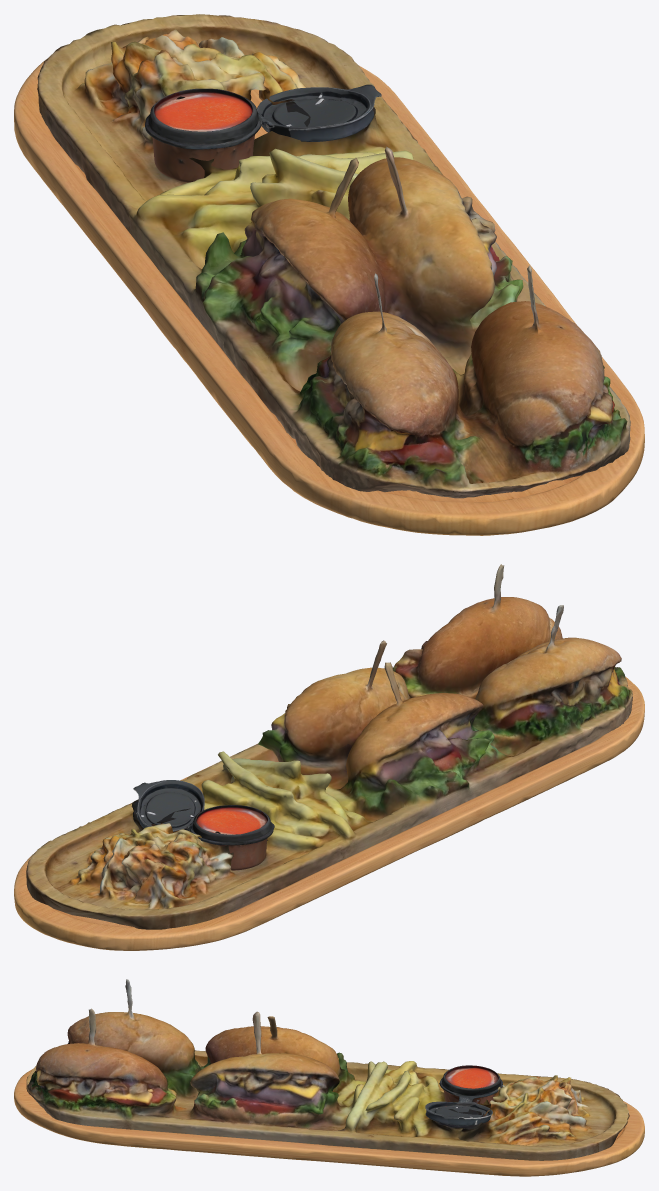
Rendered from sandwich.gharch.4rose.glb.
3 views of the same model, one above another, from view 1: azimuth 30°, elevation 25°; view 2: azimuth 150°, elevation 25°; view 3: azimuth 270°, elevation 25° (orthographic). The views are drawn at different scales.
Visible parts, largest first — view 1: 3DModel, Mesh_0, Mesh_0.001; view 2: 3DModel, Mesh_0, Mesh_0.001; view 3: 3DModel, Mesh_0, Mesh_0.001.
Boxes of the visible parts, x1,y1,x2,y2 form: 3DModel: (37, 14, 630, 498); Mesh_0: (14, 59, 644, 535); Mesh_0.001: (145, 84, 381, 182); 3DModel: (26, 564, 632, 929); Mesh_0: (14, 677, 644, 950); Mesh_0.001: (133, 780, 274, 870); 3DModel: (26, 979, 629, 1160); Mesh_0: (14, 1068, 644, 1176); Mesh_0.001: (425, 1065, 502, 1126).
Bounding box in the file's own units: 0.211 × 0.0867 × 0.4672.
Materials: 3 (3 with a texture image).
